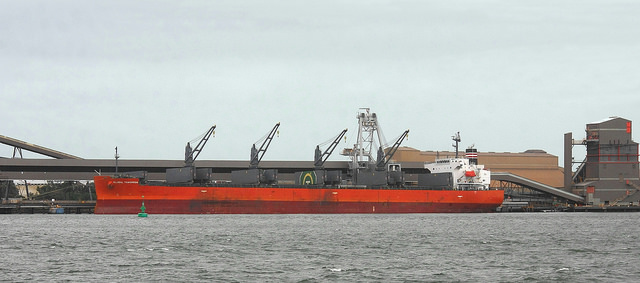bulk carrier: (93, 144, 507, 214)
